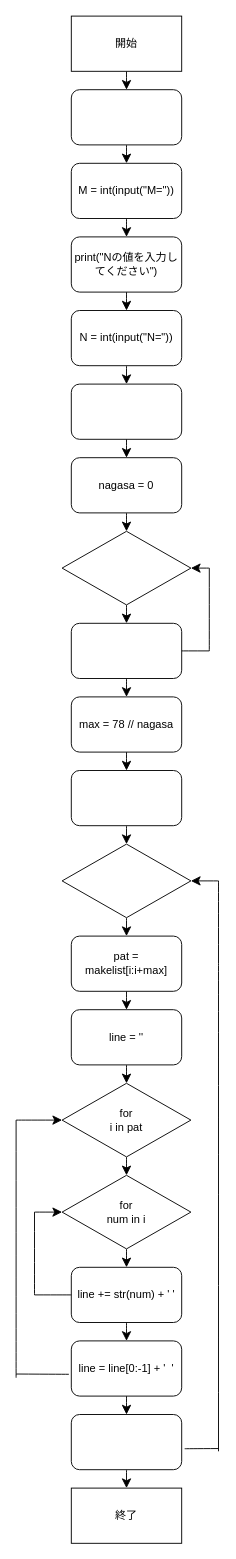
This 236x1559 diagram has some shape labels left out. The centre of each missing label's shape, as x and y in pixels:
for i in makelist[0]: [126,567]
for i in range(0, len(makelist), max): [126,880]
makelist = LIST([], M, N): [126,411]
nagasa += len(str(i)) + 1: [126,650]
nagasa -= 1: [126,798]
print("Mの値を入力してください" ): [126,117]
print(line): [126,1442]
